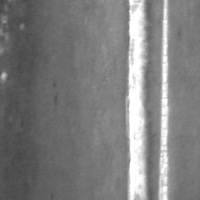inclusion: (48, 78, 62, 114)
scratches: (124, 0, 153, 199), (155, 0, 171, 199)
